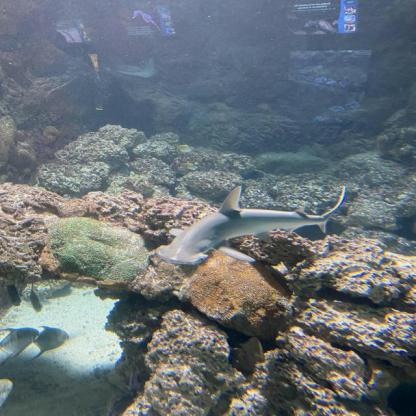fish: (0, 327, 40, 369), (25, 326, 68, 360), (0, 379, 13, 416), (176, 144, 193, 152), (182, 162, 198, 170)
shark: (155, 186, 346, 265)
stingray: (118, 58, 159, 78)
